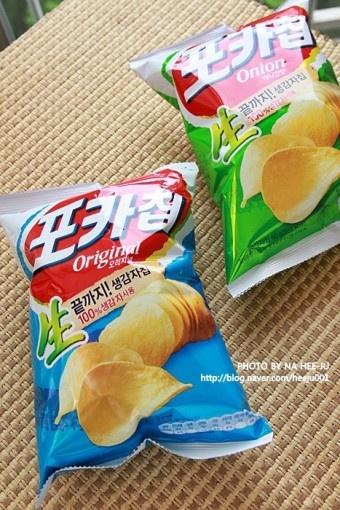snack: (128, 0, 340, 298)
